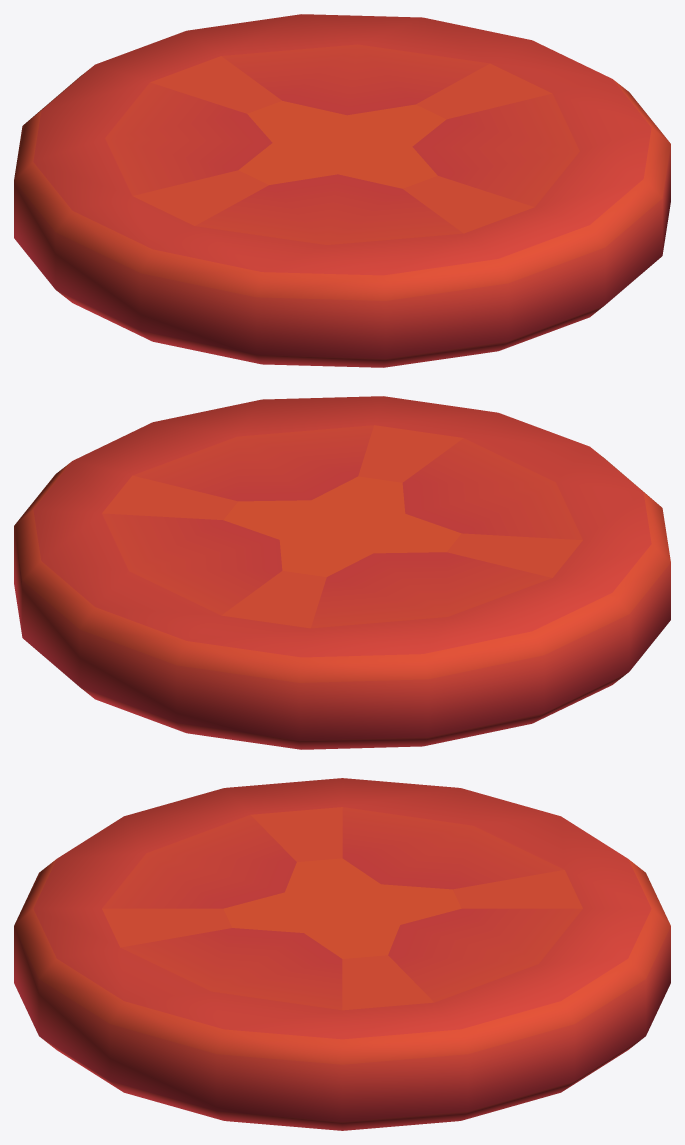
File: Tomato.glb
3 views of the same model, one above another, from view 1: azimuth 30°, elevation 25°; view 2: azimuth 150°, elevation 25°; view 3: azimuth 270°, elevation 25° (orthographic).
Parts seen in each view (by area): view 1: food_ingredient_tomato_slice; view 2: food_ingredient_tomato_slice; view 3: food_ingredient_tomato_slice.
Part boxes in pixels (box(x1,y1,x2,y2)): food_ingredient_tomato_slice: box(14, 14, 670, 367); food_ingredient_tomato_slice: box(14, 396, 670, 749); food_ingredient_tomato_slice: box(14, 778, 670, 1130).
Size of the model in its own units: 0.65 by 0.1 by 0.65.
1 material, 1 textured.
